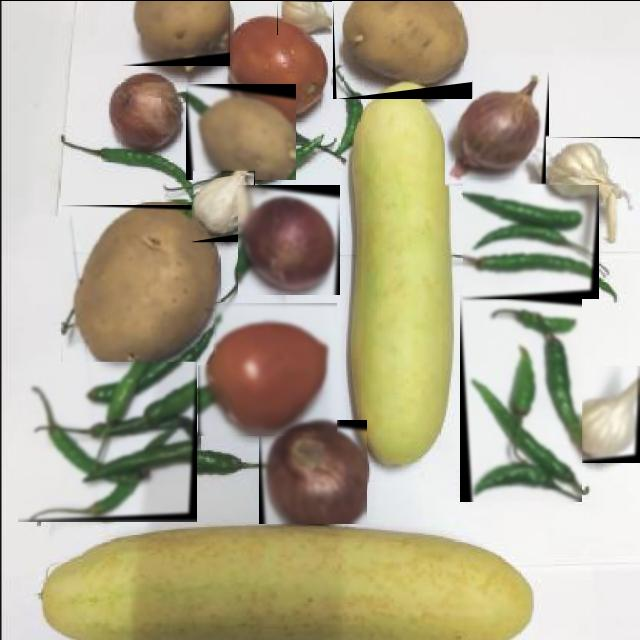Pepper: (18, 362, 197, 522), (460, 294, 582, 501), (463, 184, 599, 298)
garlic: (546, 136, 640, 241), (564, 365, 640, 462), (193, 170, 255, 241), (277, 0, 332, 34)
onion: (445, 72, 549, 186), (259, 419, 367, 523), (238, 184, 340, 294)
potato: (61, 204, 216, 364), (333, 0, 472, 98), (186, 83, 296, 179), (122, 0, 230, 65)
tomato: (198, 302, 337, 435)
